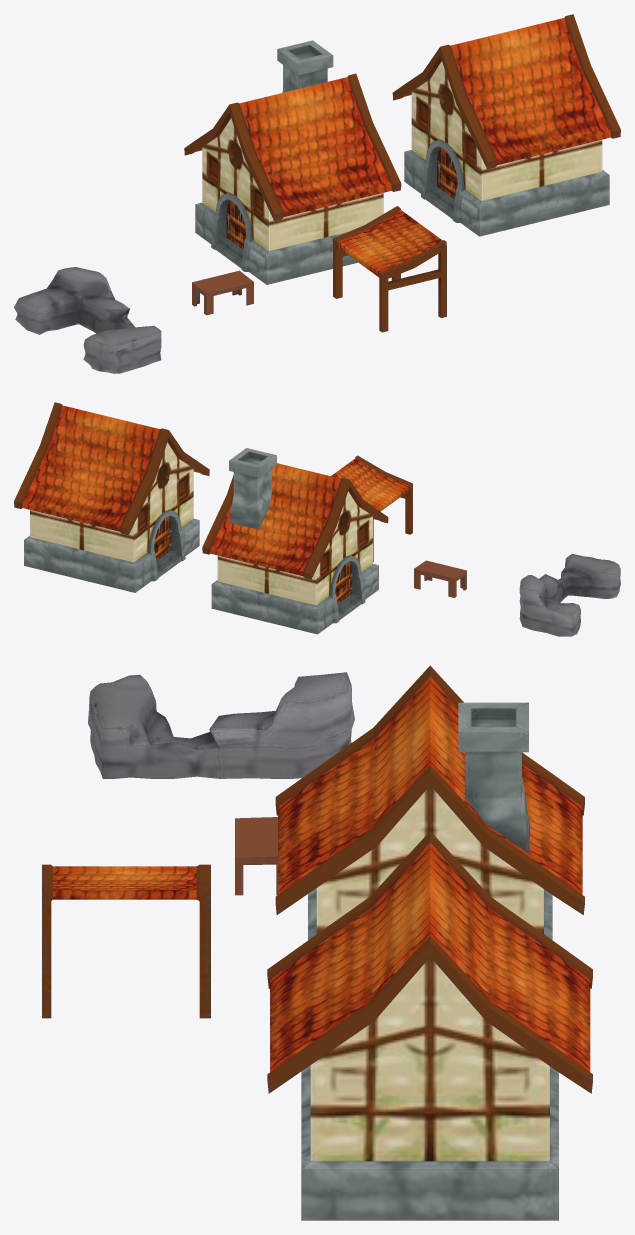
File: blacksmith.glb
3 views of the same model, one above another, from view 1: azimuth 30°, elevation 25°; view 2: azimuth 150°, elevation 25°; view 3: azimuth 270°, elevation 25° (orthographic). The views are drawn at different scales.
Parts seen in each view (by area): view 1: Blacksmith.001_blacksmith_0; view 2: Blacksmith.001_blacksmith_0; view 3: Blacksmith.001_blacksmith_0.
Part boxes in pixels (x1,y1,x2,y2): Blacksmith.001_blacksmith_0: [14, 14, 620, 373]; Blacksmith.001_blacksmith_0: [14, 402, 620, 636]; Blacksmith.001_blacksmith_0: [42, 665, 592, 1220].
Size of the model in its own units: 11.18 by 3.16 by 5.34.
1 material, 1 textured.
